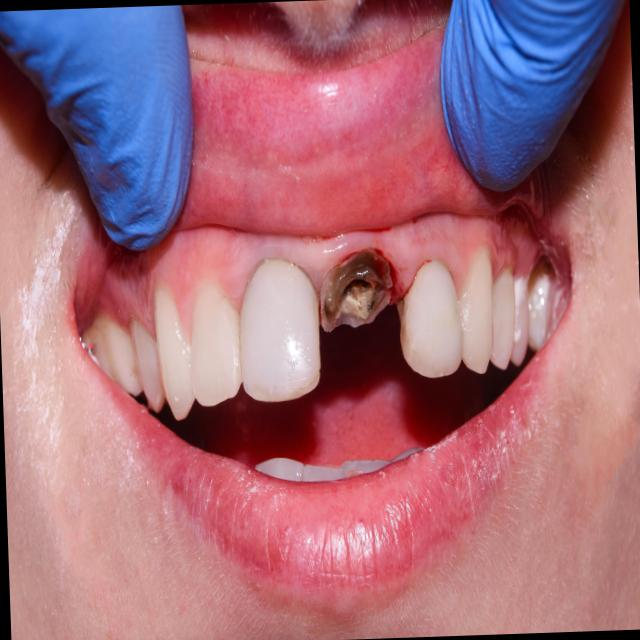Caries: (343, 279, 369, 295), (370, 299, 374, 309)
Cavity: (331, 275, 391, 332)
Tooth: (239, 259, 320, 403), (395, 260, 463, 377), (191, 283, 242, 406), (319, 250, 392, 333), (153, 288, 195, 420), (458, 251, 493, 373), (89, 319, 143, 396), (130, 319, 165, 412), (490, 269, 515, 368), (510, 279, 529, 364), (528, 276, 549, 346)
